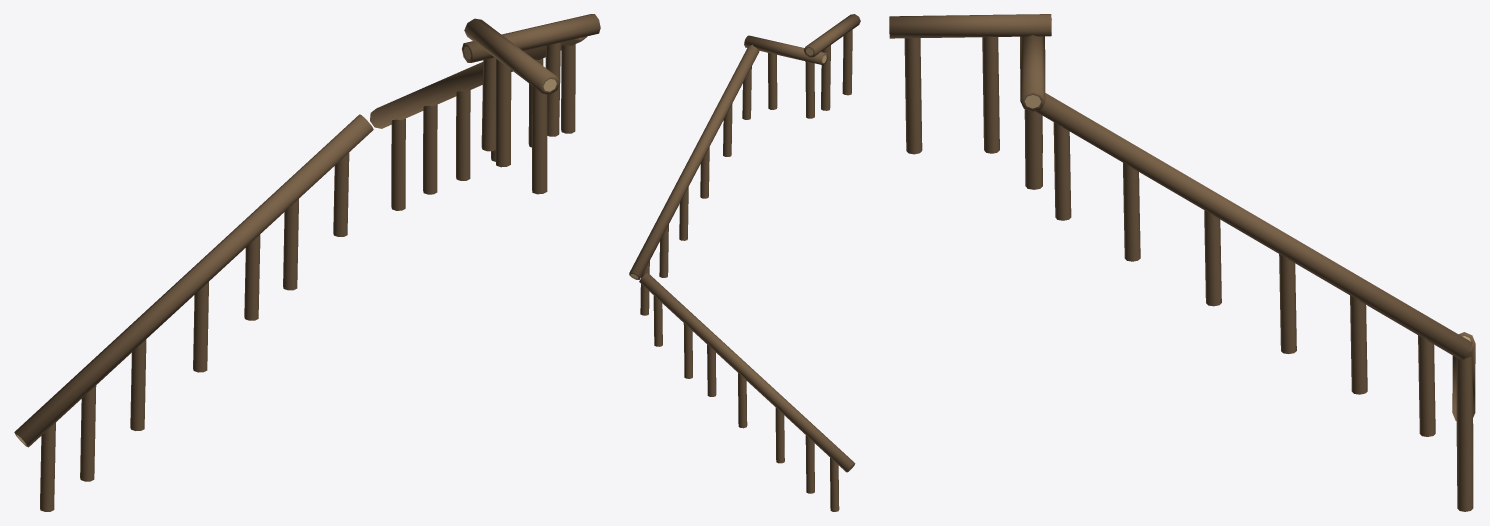
File: rpgpp_ag_stairs_interior_01c_4m_handrail_01.fbx
3 views of the same model, side by side, from view 1: azimuth 30°, elevation 25°; view 2: azimuth 150°, elevation 25°; view 3: azimuth 270°, elevation 25° (orthographic). The views are drawn at different scales.
Parts seen in each view (by area): view 1: rpgpp_ag_stairs_interior_01c_4m_handrail_01; view 2: rpgpp_ag_stairs_interior_01c_4m_handrail_01; view 3: rpgpp_ag_stairs_interior_01c_4m_handrail_01.
Boxes of the visible parts, left/top/right/bottom form: rpgpp_ag_stairs_interior_01c_4m_handrail_01: left=14, top=14, right=600, bottom=511; rpgpp_ag_stairs_interior_01c_4m_handrail_01: left=629, top=14, right=860, bottom=511; rpgpp_ag_stairs_interior_01c_4m_handrail_01: left=889, top=14, right=1475, bottom=511.
Size of the model in its own units: 3.35 by 4.87 by 4.19.
